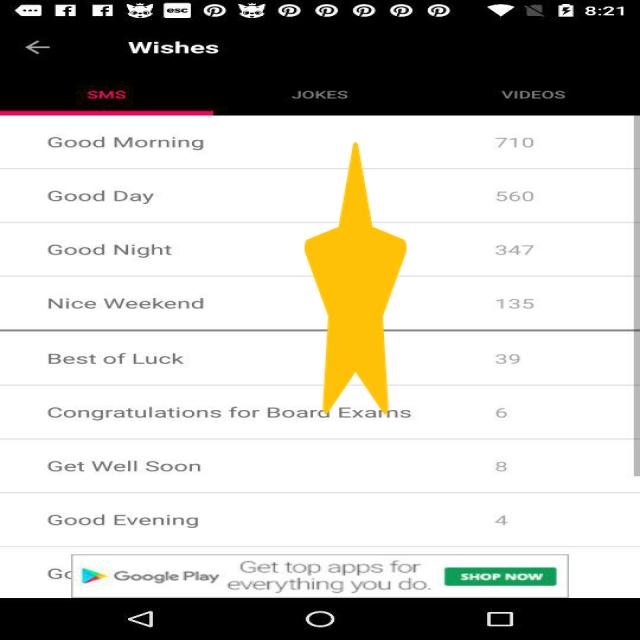forced continuity: (304, 142, 406, 415)
